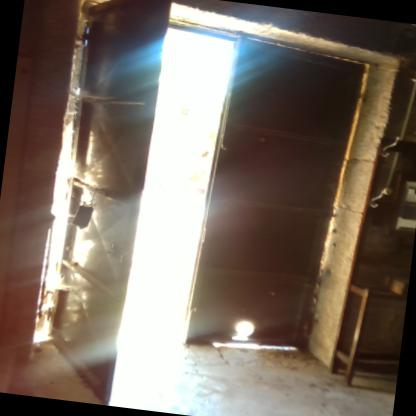semi: (23, 0, 409, 415)
